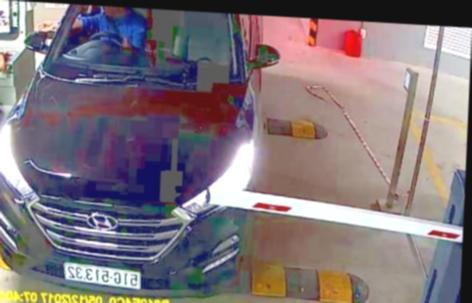License_Plate: (63, 263, 143, 290)
